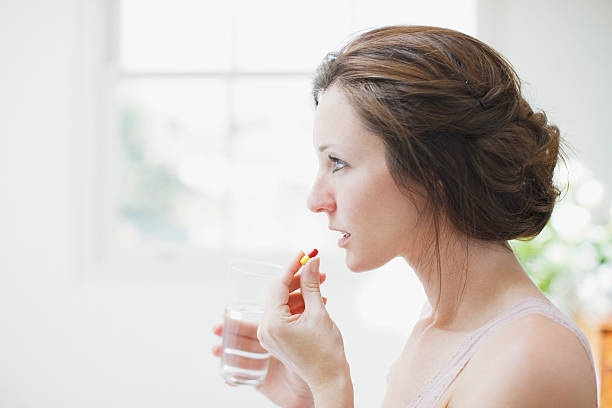pills: (298, 246, 322, 270)
